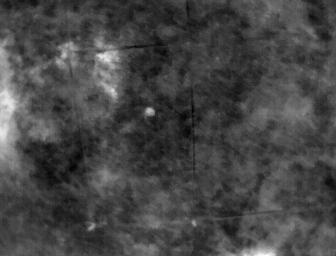landmine: (145, 106, 157, 117)
